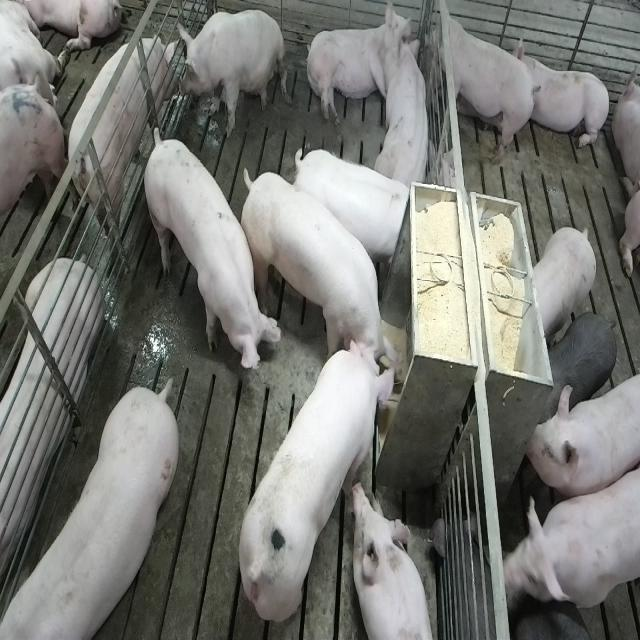Feeding: (236, 332, 400, 624), (237, 166, 402, 382)
Sitting: (175, 8, 285, 138)
Standing: (0, 382, 175, 640), (143, 127, 281, 381), (65, 36, 182, 254), (502, 457, 638, 618), (432, 7, 540, 166), (291, 145, 414, 276), (525, 371, 637, 498), (538, 310, 617, 420), (530, 226, 596, 344), (510, 610, 603, 640)
Sternal_lying: (0, 261, 100, 608), (352, 482, 439, 640), (519, 40, 612, 156), (376, 14, 434, 190)
